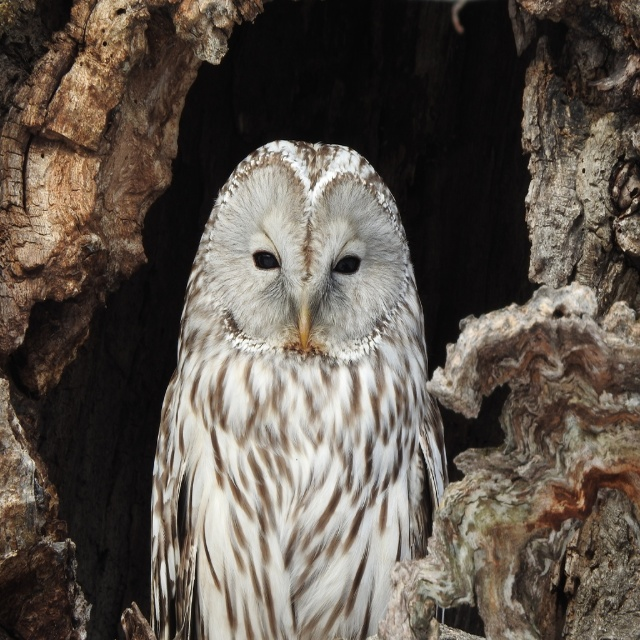Owl: (145, 139, 457, 639)
